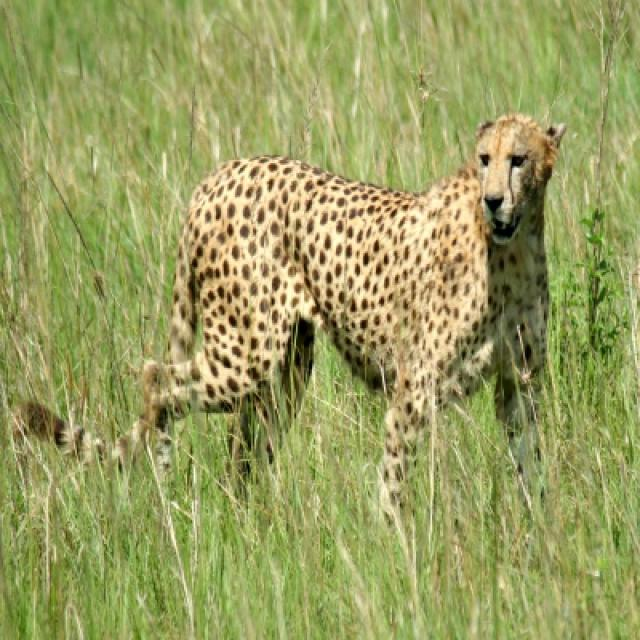Cheetah: (131, 114, 566, 525)
